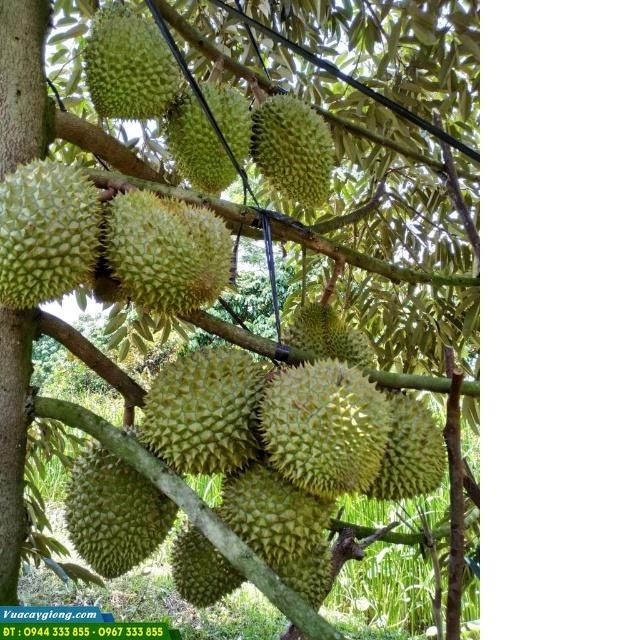sau_rieng: (260, 359, 391, 500), (69, 426, 178, 577), (140, 345, 264, 475), (102, 190, 234, 312), (1, 159, 104, 311), (86, 2, 178, 120), (367, 386, 449, 499), (225, 473, 328, 562), (168, 83, 252, 191), (253, 95, 331, 210), (174, 506, 249, 606), (286, 306, 382, 374)
